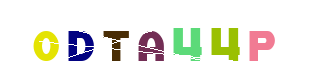4: (147, 0, 227, 80), (185, 0, 265, 80)
A: (117, 0, 197, 80)
D: (39, 0, 119, 80)
O: (9, 0, 89, 80)
P: (189, 0, 269, 80)
T: (96, 0, 176, 80)
